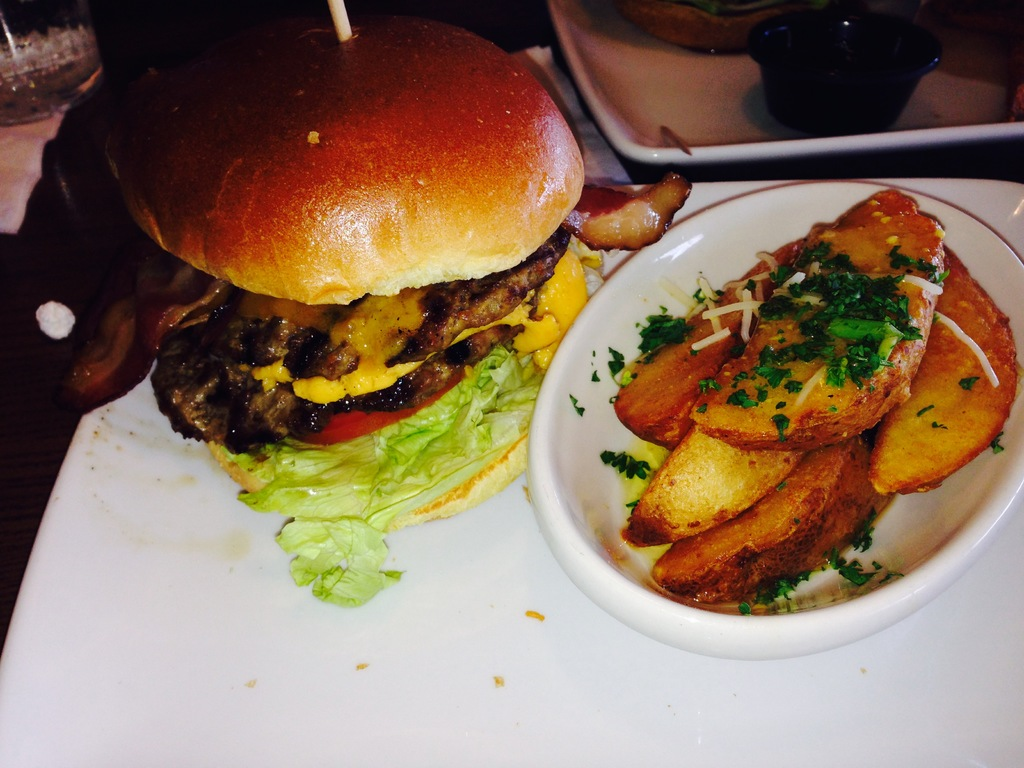Hamburger: (108, 22, 609, 611)
